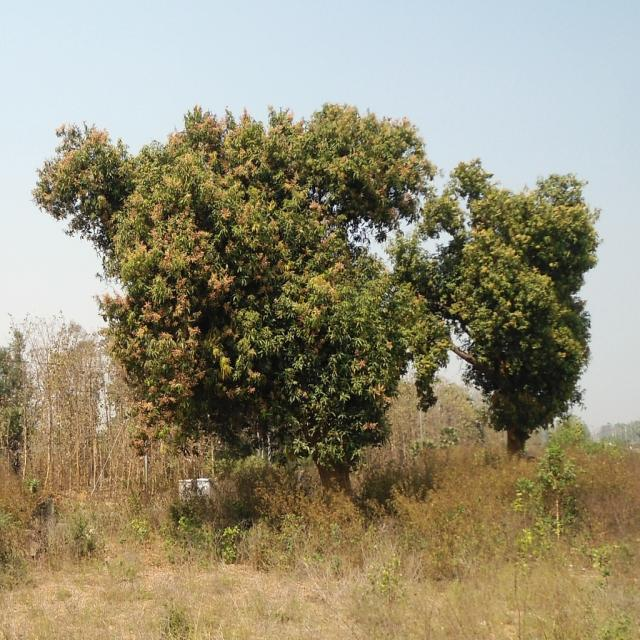Mango-Tree: (131, 104, 404, 479), (449, 156, 590, 453)
